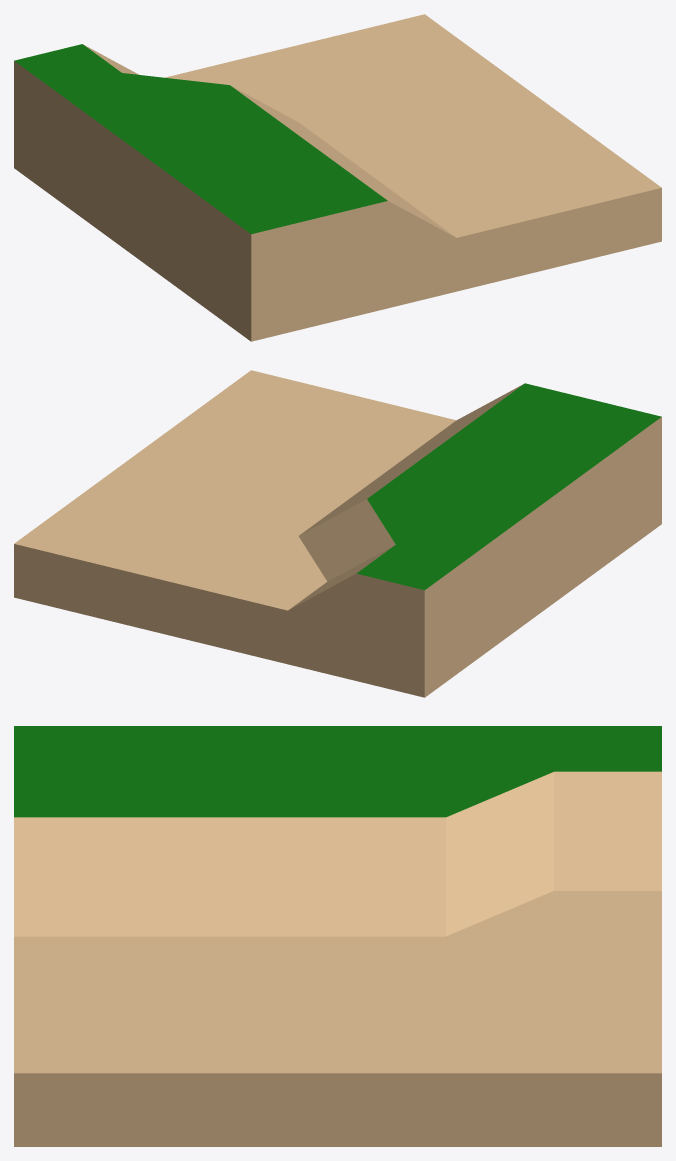
Rendered from tile_thin_to_wide_edge.glb.
3 views of the same model, one above another, from view 1: azimuth 30°, elevation 25°; view 2: azimuth 150°, elevation 25°; view 3: azimuth 270°, elevation 25° (orthographic). The views are drawn at different scales.
Parts seen in each view (by area): view 1: Plane.015; view 2: Plane.015; view 3: Plane.015.
Part boxes in pixels (x1,y1,x2,y2): Plane.015: (14, 14, 661, 341); Plane.015: (14, 370, 661, 697); Plane.015: (14, 726, 661, 1146).
Bounding box in the file's own units: 2 × 0.5 × 2.
